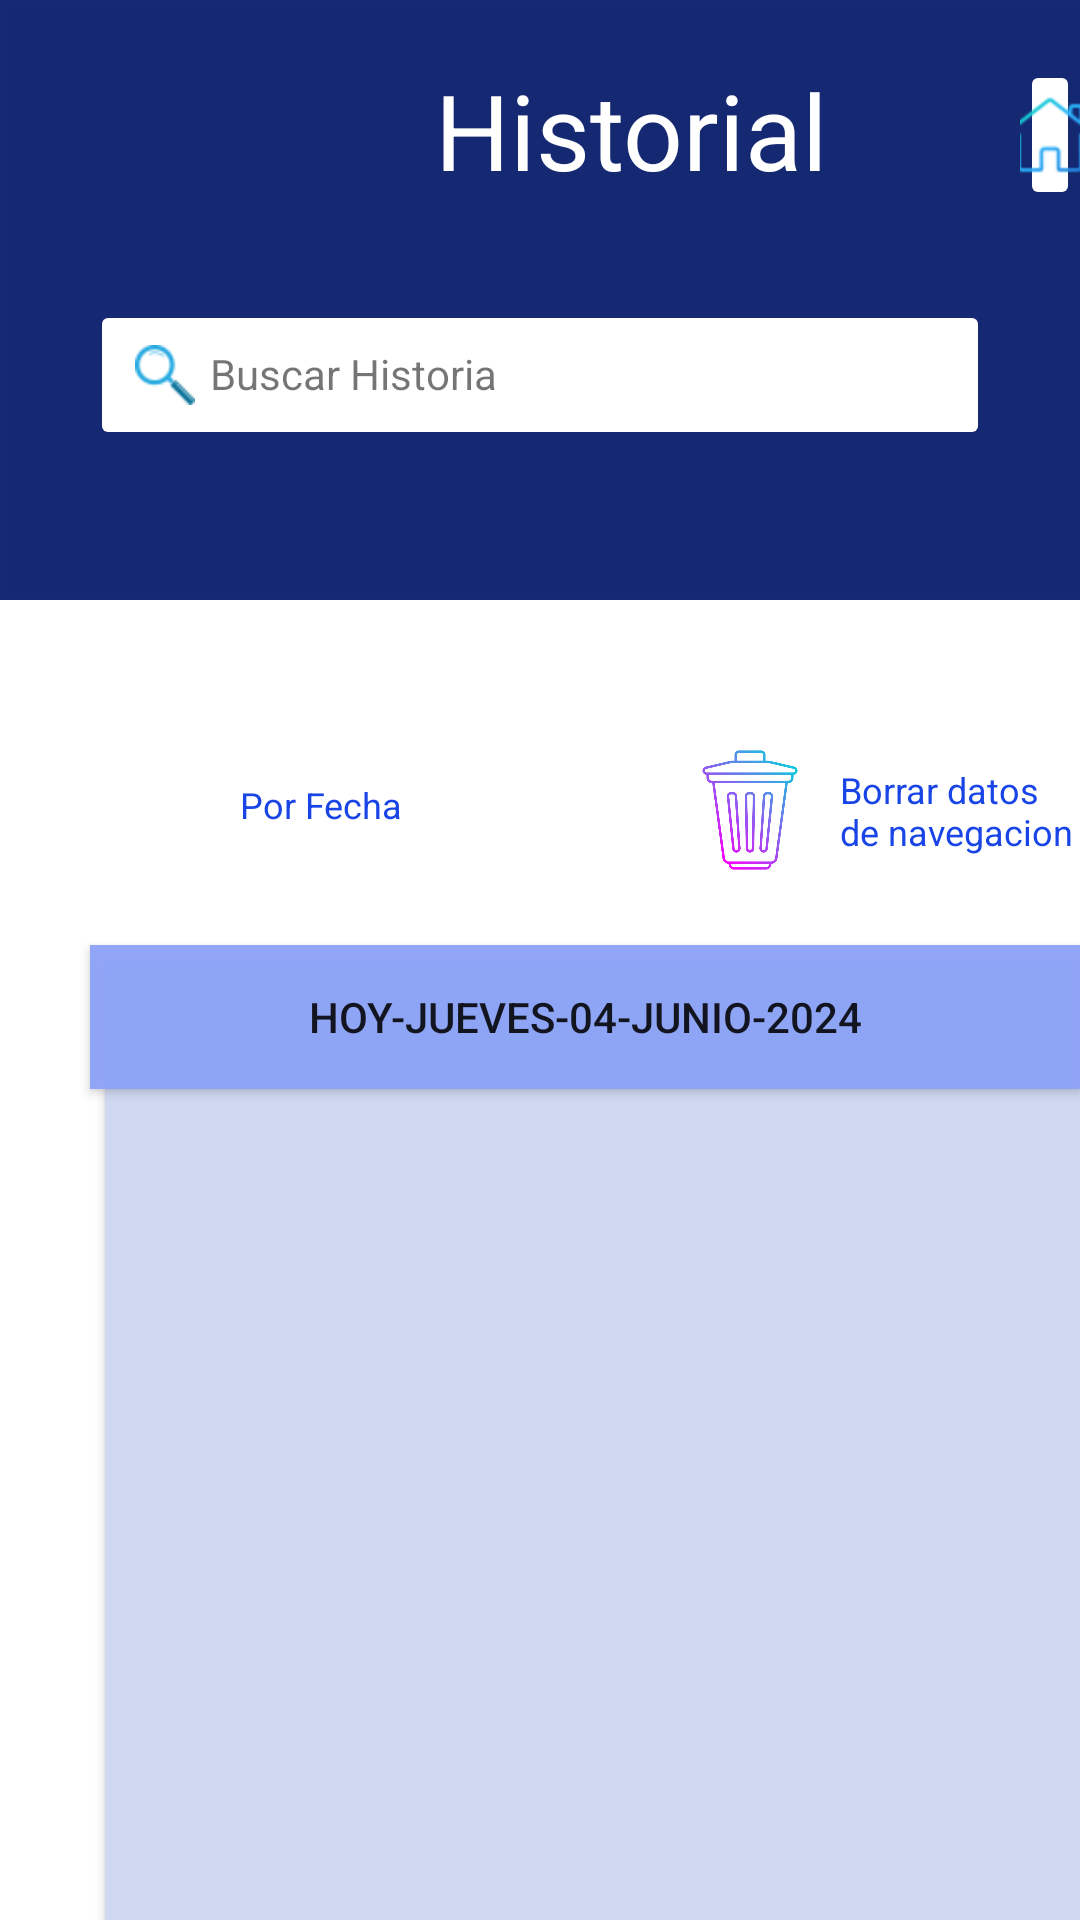

Icons on this 1080*1920 Android screen, each with the point to tap as (x,y):
botte: (750,810)
lupa: (165,375)
